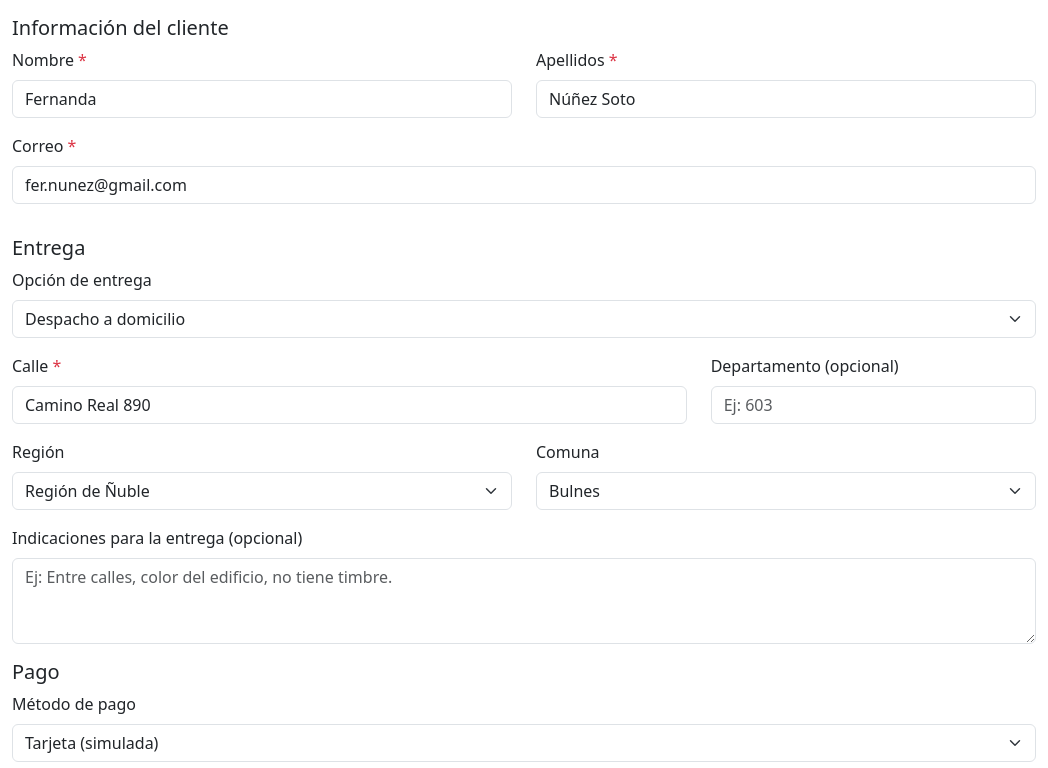
it: CheckoutForm › oculta la dirección con "Retiro en tienda" (renderizado condicional)
Select "Retiro en tienda" in the dropdown labelled "Opción de entrega" at [524, 319], box [12,300,1036,338]
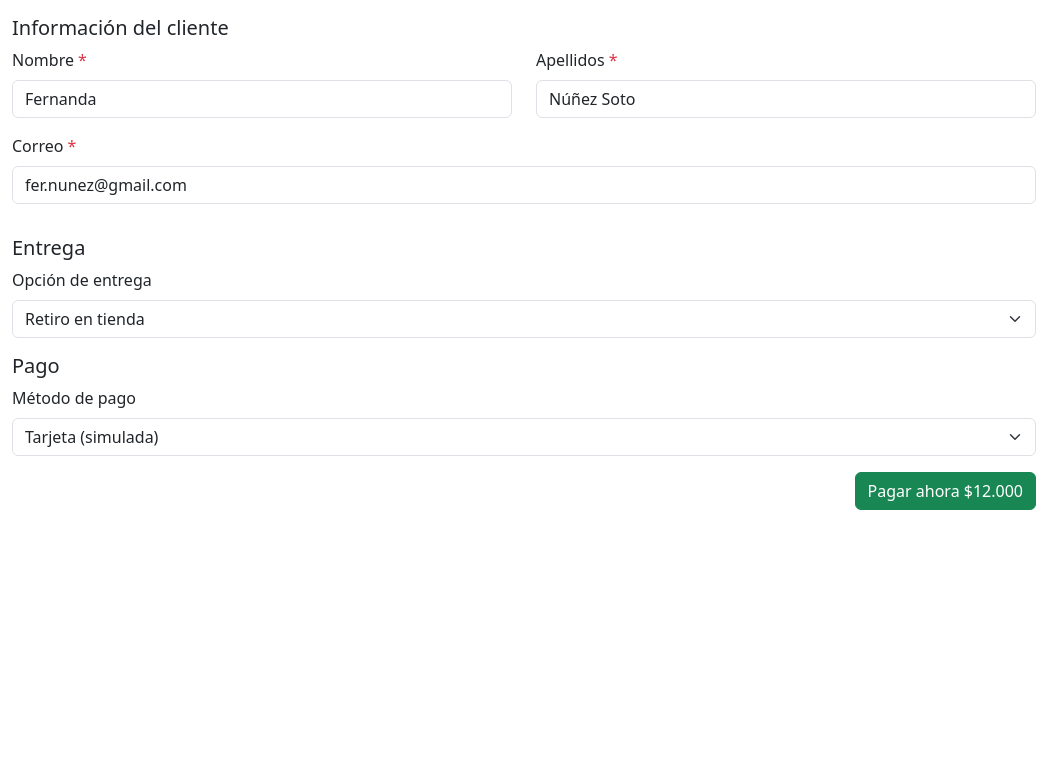
expect the label labelled "Calle" is gone: met
